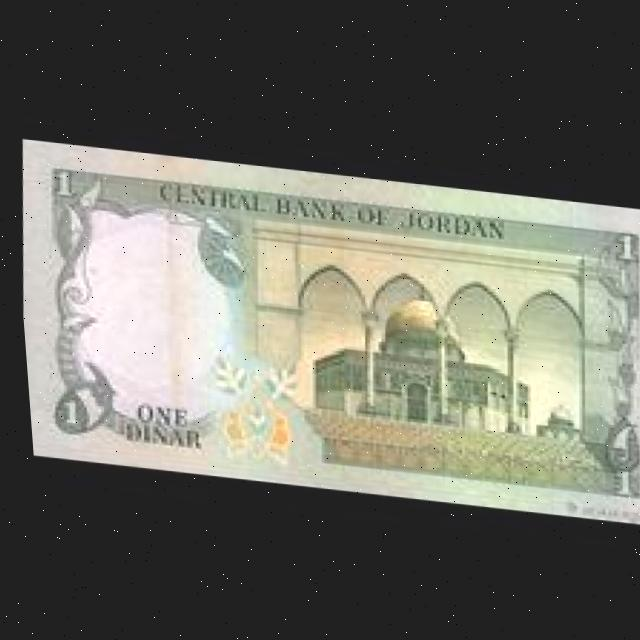banknote: (8, 135, 640, 518)
